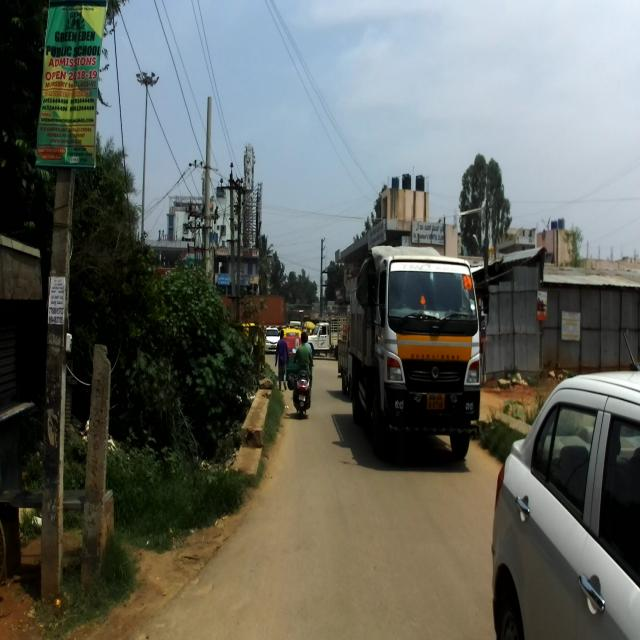car: (492, 350, 640, 640)
scooter: (287, 348, 314, 419)
truck: (348, 244, 488, 462)
